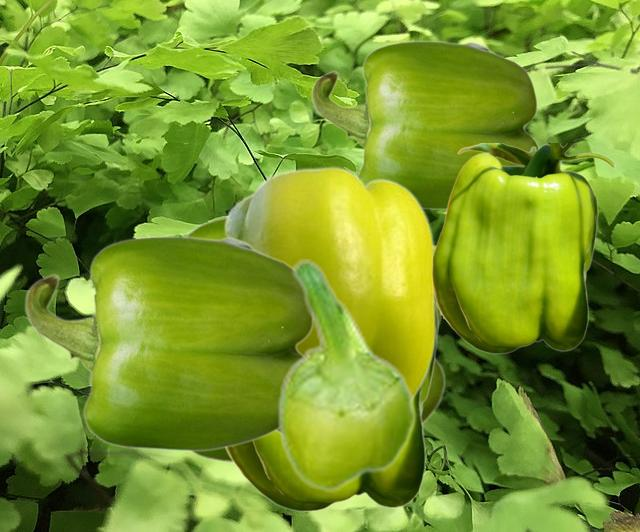bell_pepper: (185, 214, 445, 465), (24, 235, 313, 451), (223, 165, 435, 434), (225, 306, 440, 511), (311, 40, 539, 209), (431, 143, 614, 353), (276, 259, 416, 491)
